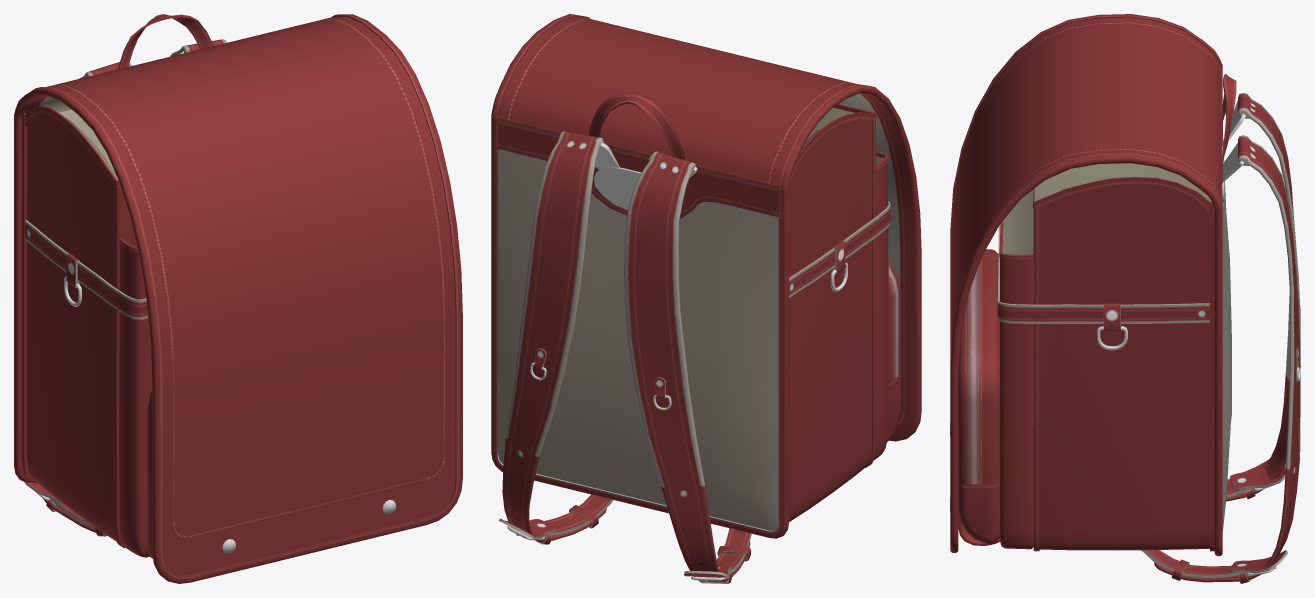
The model's file is BackPackRed.glb.
3 views of the same model, side by side, from view 1: azimuth 30°, elevation 25°; view 2: azimuth 150°, elevation 25°; view 3: azimuth 270°, elevation 25° (orthographic). The views are drawn at different scales.
Parts seen in each view (by area): view 1: r_02_low_0, r_01_low_7, r_03_low_1, r_05_low_3, r_04_low_2, r_09_low_8; view 2: r_02_low_0, r_04_low_2, r_01_low_7, r_03_low_1, r_05_low_3, r_06_low_4; view 3: r_01_low_7, r_02_low_0, r_04_low_2, r_03_low_1, r_09_low_8, r_05_low_3, r_06_low_4.
Part boxes in pixels (x1,y1,x2,y2): r_02_low_0: (14, 14, 462, 583); r_01_low_7: (21, 106, 152, 558); r_03_low_1: (25, 220, 148, 319); r_05_low_3: (24, 14, 213, 536); r_04_low_2: (34, 39, 226, 533); r_09_low_8: (59, 109, 118, 180); r_02_low_0: (491, 14, 921, 538); r_04_low_2: (502, 131, 751, 582); r_01_low_7: (789, 104, 901, 521); r_03_low_1: (498, 123, 890, 297); r_05_low_3: (499, 94, 845, 583); r_06_low_4: (507, 143, 847, 581); r_01_low_7: (958, 177, 1214, 551); r_02_low_0: (950, 14, 1231, 556); r_04_low_2: (1141, 93, 1300, 582); r_03_low_1: (997, 224, 1209, 324); r_09_low_8: (1002, 163, 1211, 301); r_05_low_3: (1103, 74, 1300, 583); r_06_low_4: (1096, 100, 1300, 575).
Bounding box in the file's own units: 0.265 × 0.3957 × 0.2729.
Materials: 1 (1 with a texture image).
